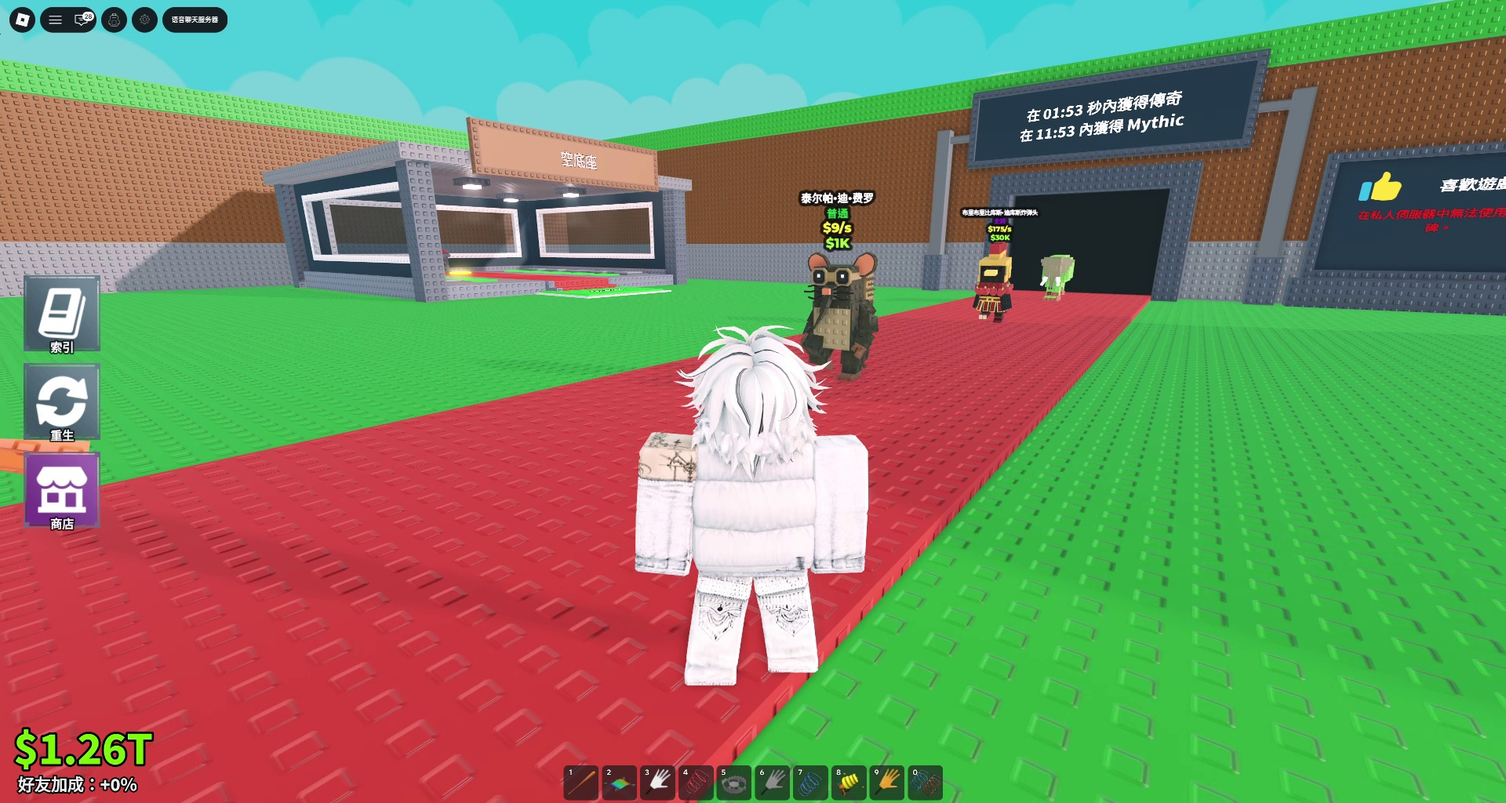price_tag: (622, 206, 671, 250), (936, 219, 972, 245), (1028, 218, 1055, 236)
